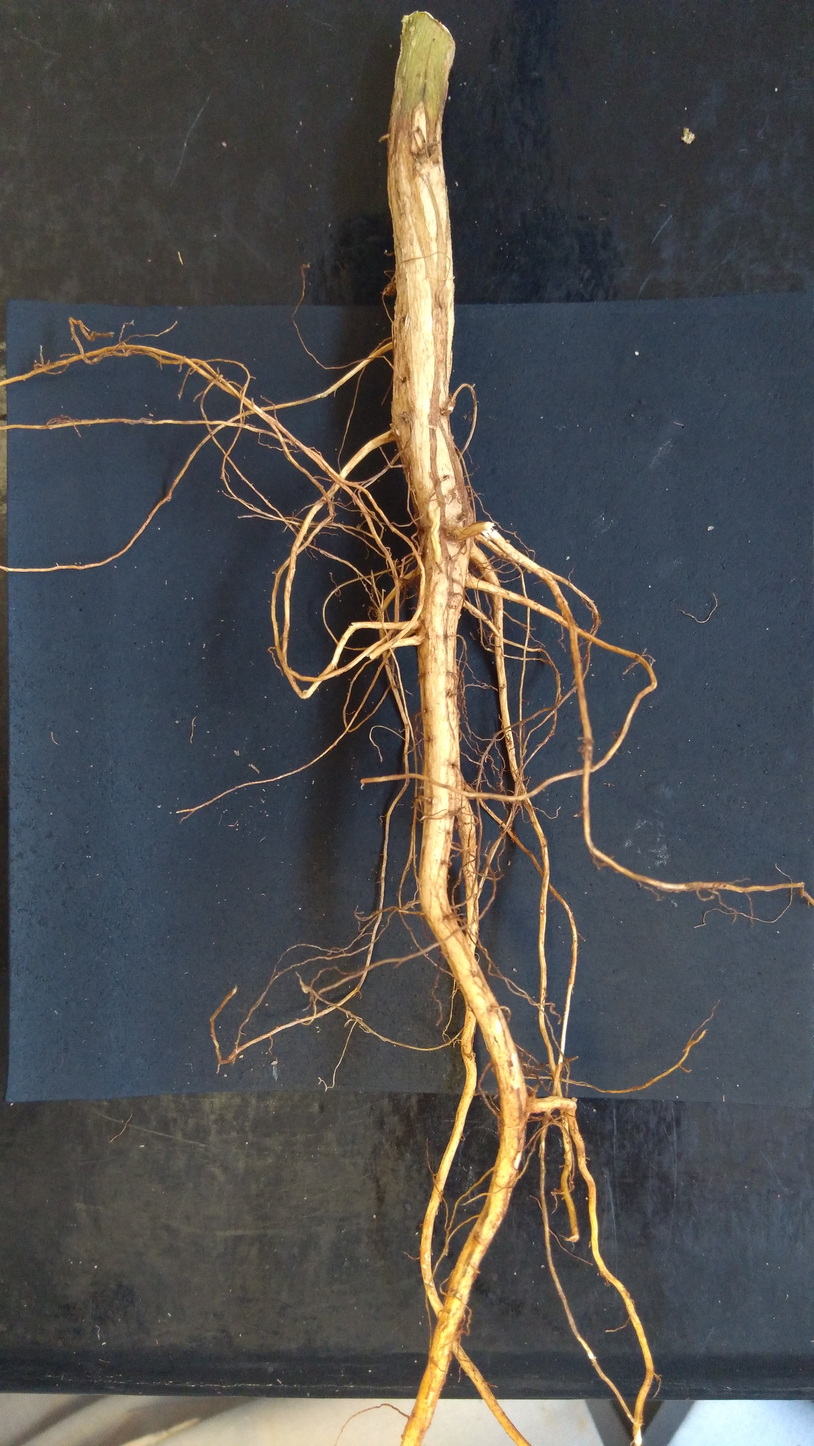nodule: (440, 396, 456, 416), (680, 126, 696, 145), (521, 1062, 535, 1078), (384, 282, 397, 298), (454, 820, 459, 830), (571, 1096, 578, 1102), (504, 539, 511, 543), (526, 569, 531, 574)
